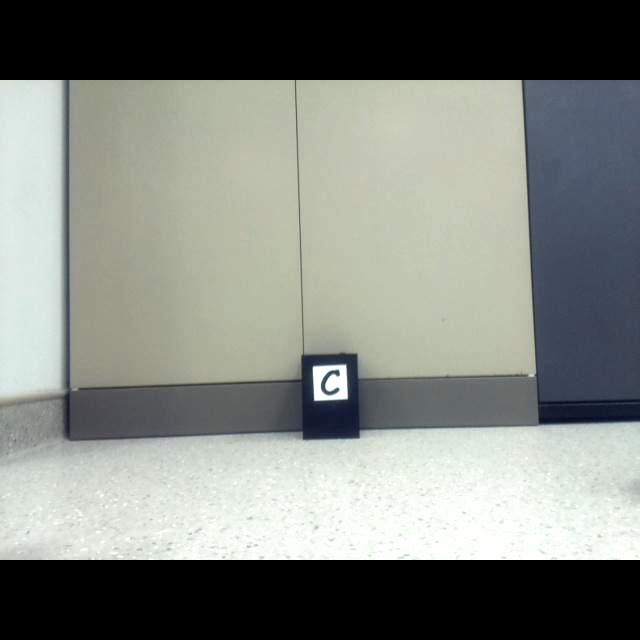C: (320, 370, 341, 397)
